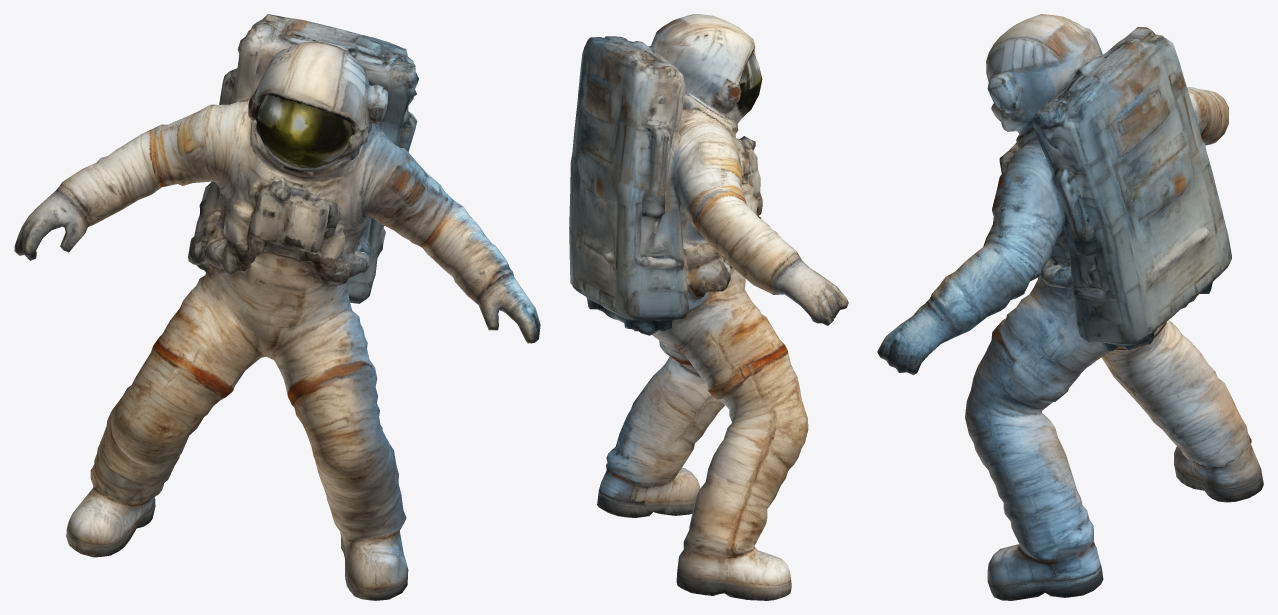
Rendered from astronaut.glb.
The picture shows the model from 3 angles, left to right: view 1: azimuth 30°, elevation 25°; view 2: azimuth 150°, elevation 25°; view 3: azimuth 270°, elevation 25°; orthographic projection. The views are drawn at different scales.
Visible parts, largest first — view 1: low; view 2: low; view 3: low.
Part boxes in pixels (box(x1,y1,x2,y2)): low: box(14, 14, 540, 600); low: box(569, 14, 848, 600); low: box(877, 14, 1263, 600).
Bounding box in the file's own units: 1.32 × 1.8 × 1.15.
Materials: 1 (1 with a texture image).
